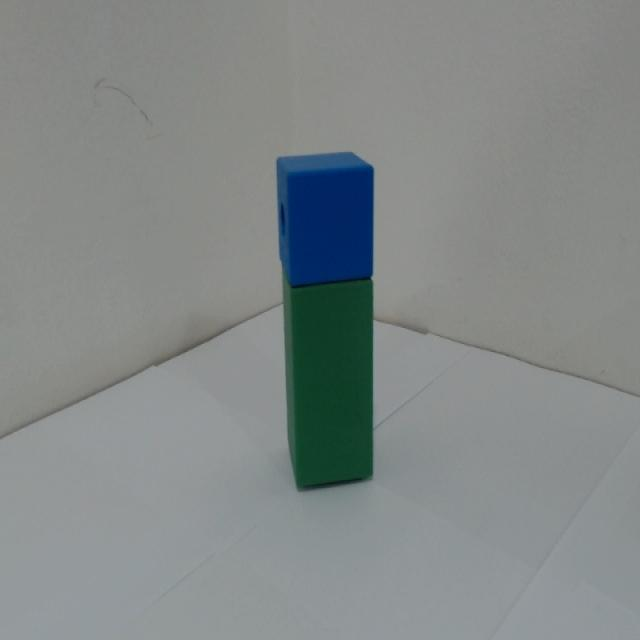cube: (251, 131, 396, 286)
